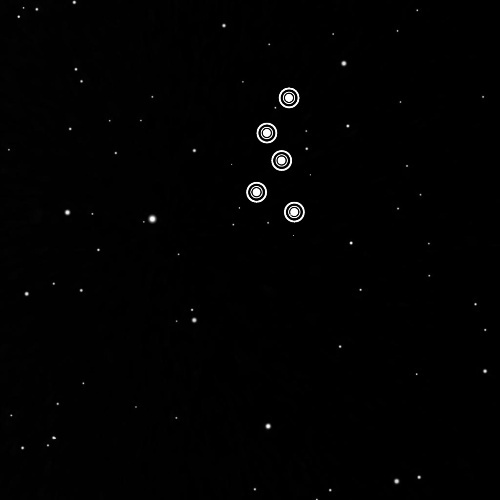cassiopeia: (238, 75, 312, 231)
